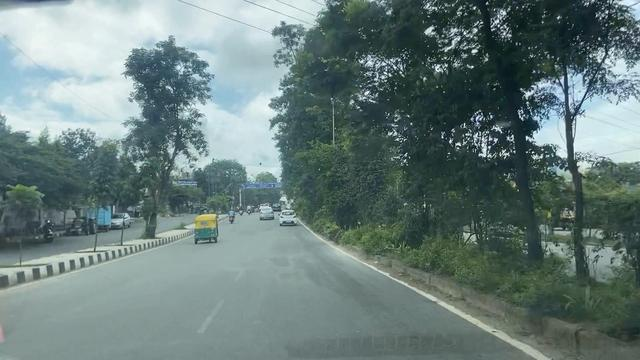LMV: (195, 215, 218, 240), (281, 211, 297, 224), (259, 209, 273, 219), (229, 209, 235, 222)
